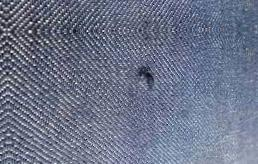knot: (138, 70, 158, 92)
